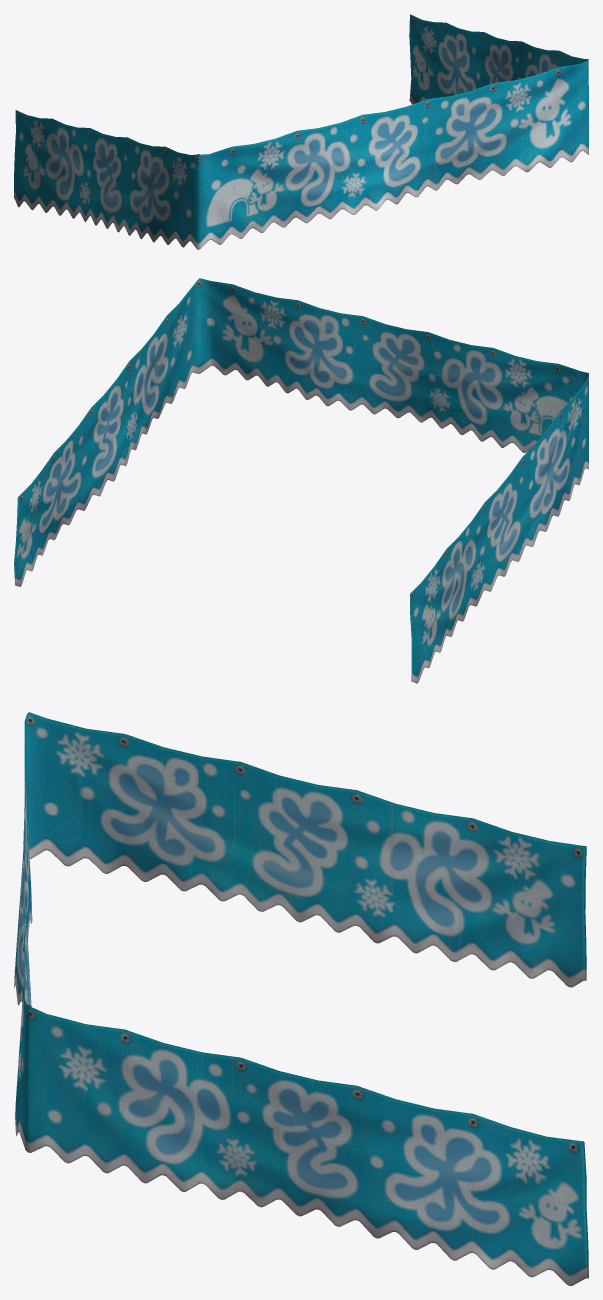
Rendered from jsf_ShopCurtain_ShavedIce_02.fbx.
The picture shows the model from 3 angles, top to bottom: view 1: azimuth 30°, elevation 25°; view 2: azimuth 150°, elevation 25°; view 3: azimuth 270°, elevation 25°; orthographic projection. The views are drawn at different scales.
Parts seen in each view (by area): view 1: jsf_ShopCurtain_ShavedIce_02; view 2: jsf_ShopCurtain_ShavedIce_02; view 3: jsf_ShopCurtain_ShavedIce_02.
Part boxes in pixels (x1,y1,x2,y2): jsf_ShopCurtain_ShavedIce_02: [14, 14, 588, 249]; jsf_ShopCurtain_ShavedIce_02: [14, 278, 588, 683]; jsf_ShopCurtain_ShavedIce_02: [14, 712, 588, 1285].
Size of the model in its own units: 269 by 116 by 216.
